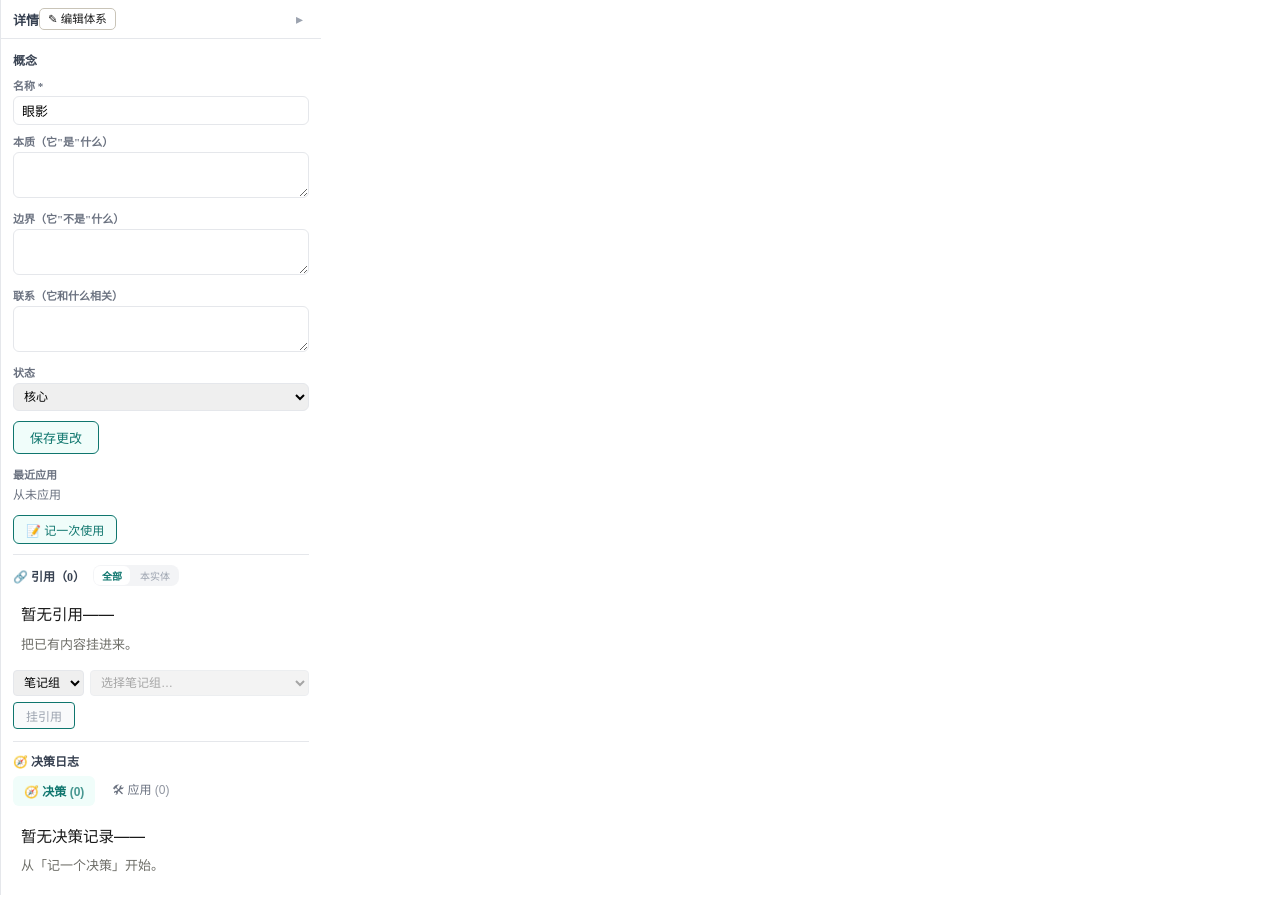
it: KnowledgeDetailPanel 概念入口 › 选中概念（id!=null）：点击「记一次使用」打开应用表单并挂当前概念
Click the button with test id "log-application-open" at (65, 530), box 13,515 -> 117,544
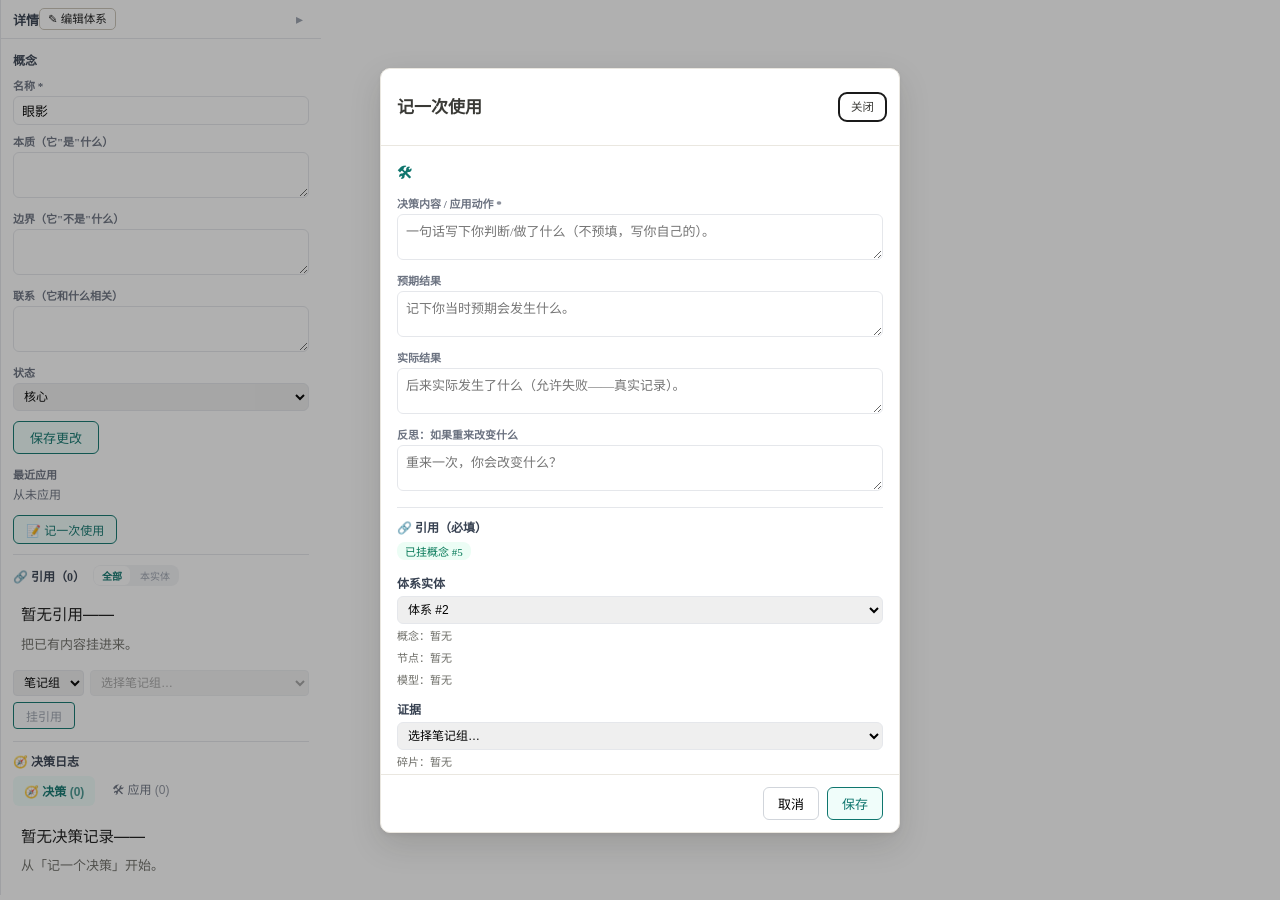
Check: the dialog with test id "decision-form" shows "记一次使用", box 397,97 -> 482,117
Check: the text with test id "ref-badge-concept" reads "已挂概念 #5", box 397,542 -> 471,560
